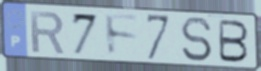7: (69, 12, 102, 56), (145, 13, 173, 62)
B: (217, 18, 251, 65)
F: (103, 12, 141, 58)
R: (29, 9, 67, 55)
S: (179, 16, 214, 64)
